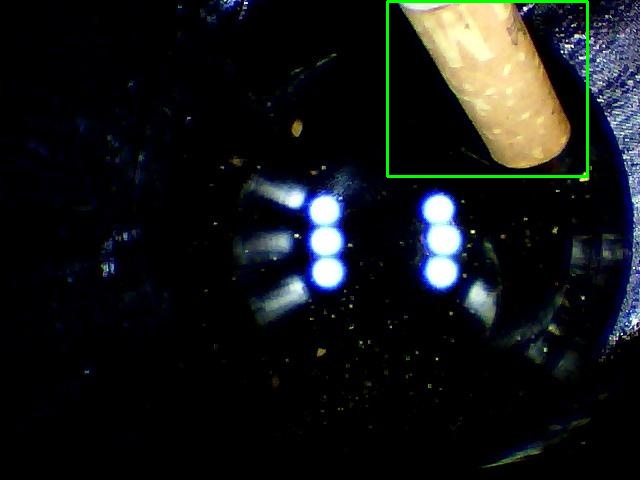megot: (387, 1, 587, 176)
